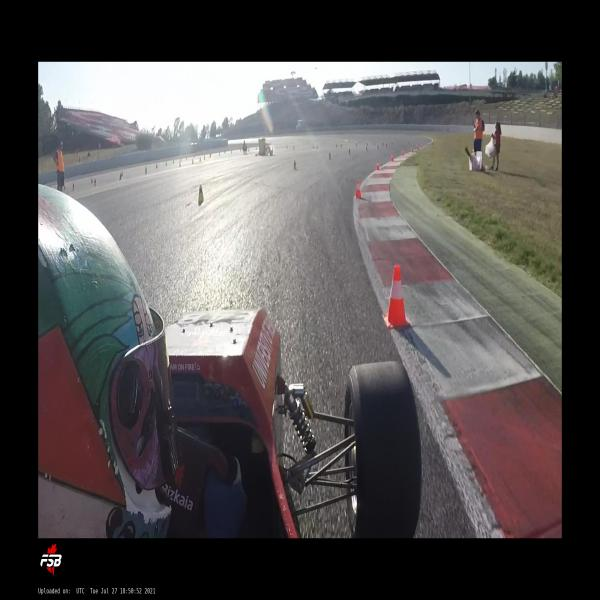orange_cone: (383, 265, 410, 328), (354, 180, 363, 199), (376, 160, 380, 170), (390, 153, 394, 163), (91, 176, 93, 183), (64, 182, 66, 189), (412, 146, 414, 152), (402, 151, 404, 156)
unknown_cone: (119, 173, 122, 180), (121, 170, 123, 176)
yellow_cone: (198, 184, 203, 202), (293, 159, 297, 170), (72, 182, 76, 191), (329, 152, 332, 160), (365, 146, 368, 152), (94, 178, 96, 186), (348, 148, 350, 154), (377, 144, 379, 149), (366, 143, 368, 146)
